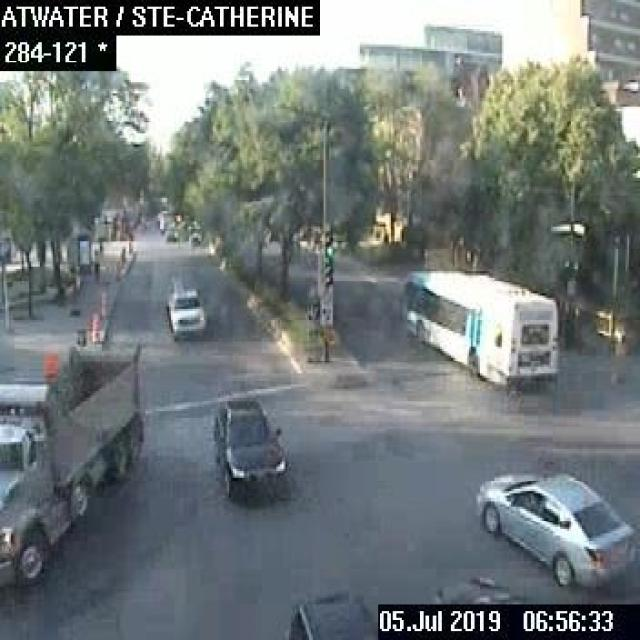bus: (406, 266, 558, 386)
pedestrian: (91, 253, 100, 280)
vehicle: (0, 342, 145, 588), (473, 466, 638, 586), (211, 391, 289, 498), (282, 586, 374, 638), (164, 273, 205, 335)
